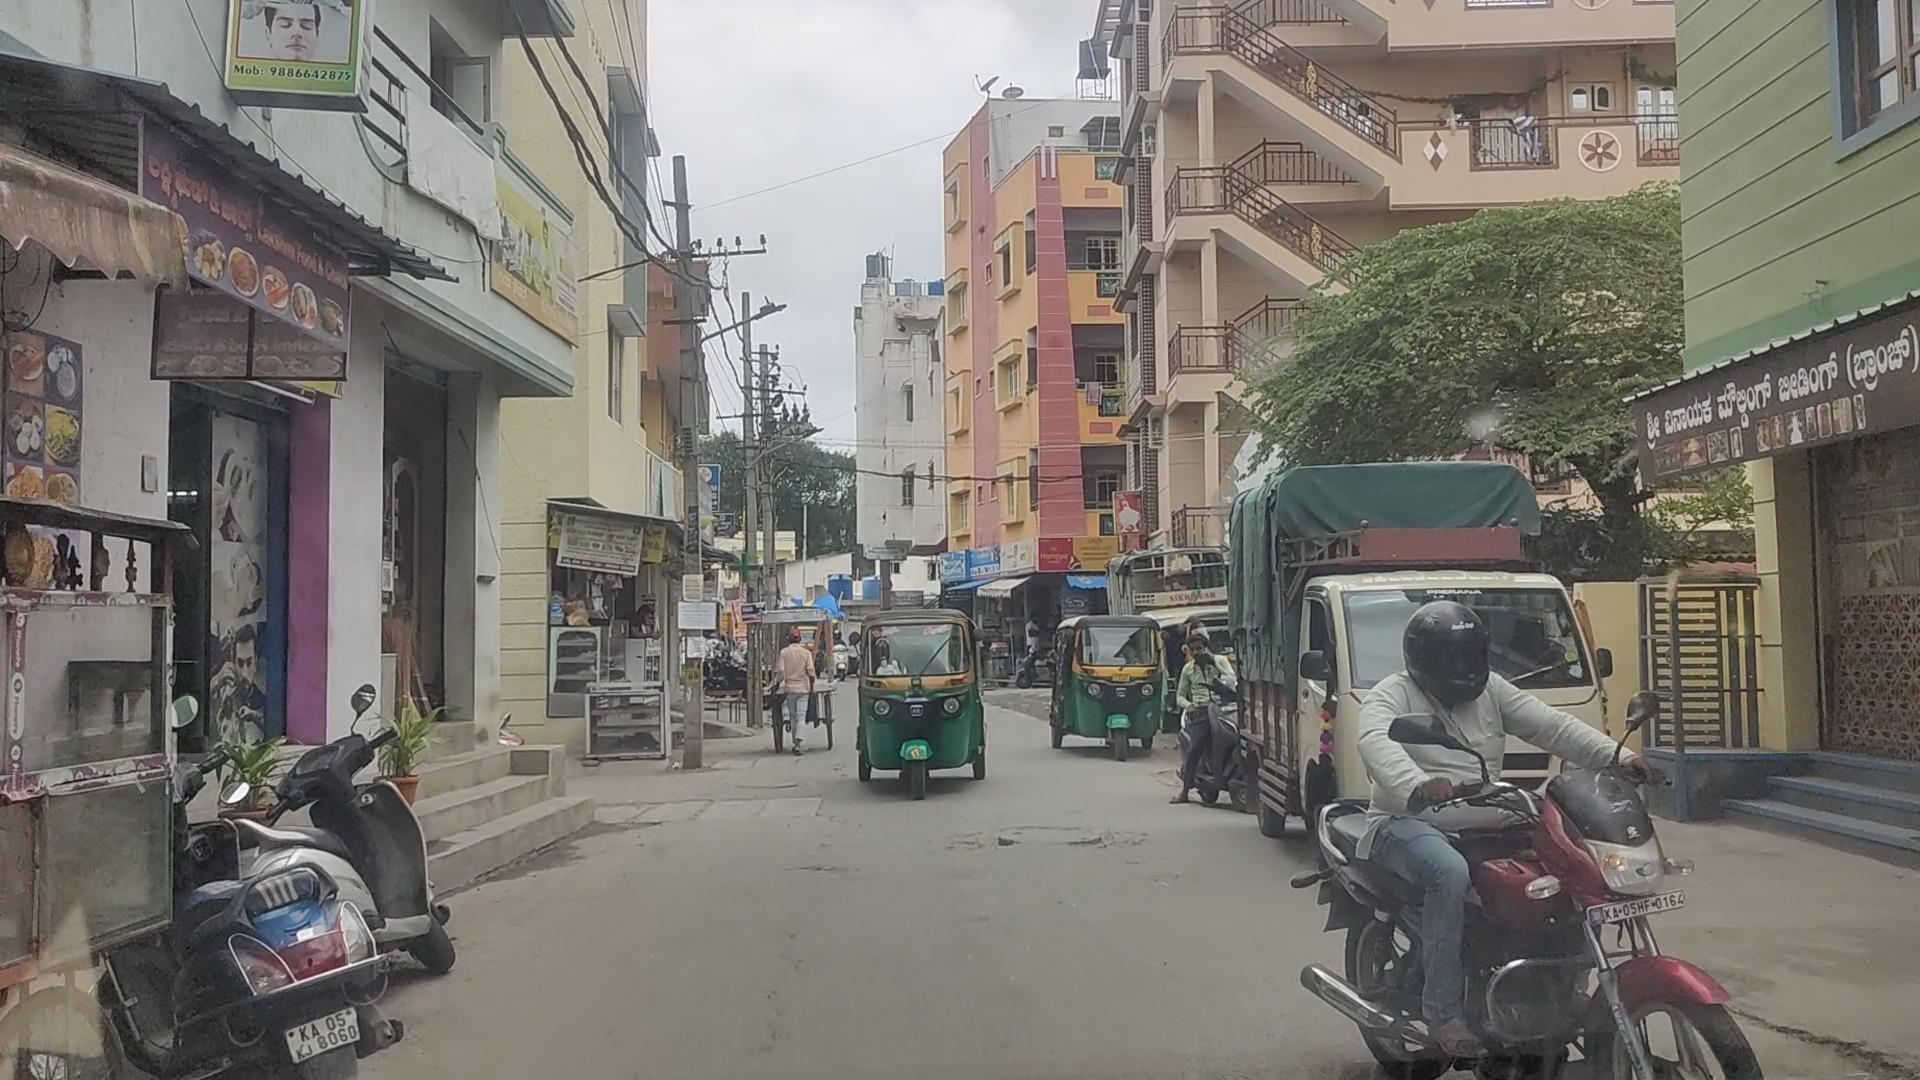LMV: (1352, 601, 1685, 1080), (852, 615, 976, 793)
RoadDamages: (976, 816, 1129, 870), (600, 796, 827, 827)
